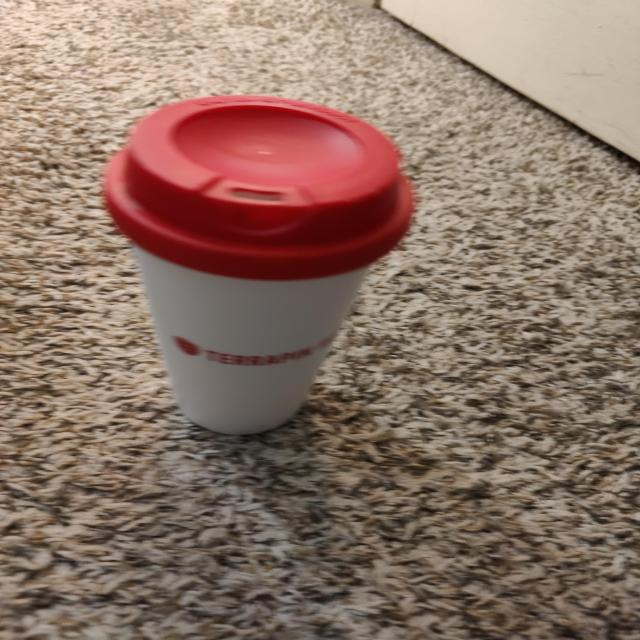mug: (122, 98, 411, 443)
